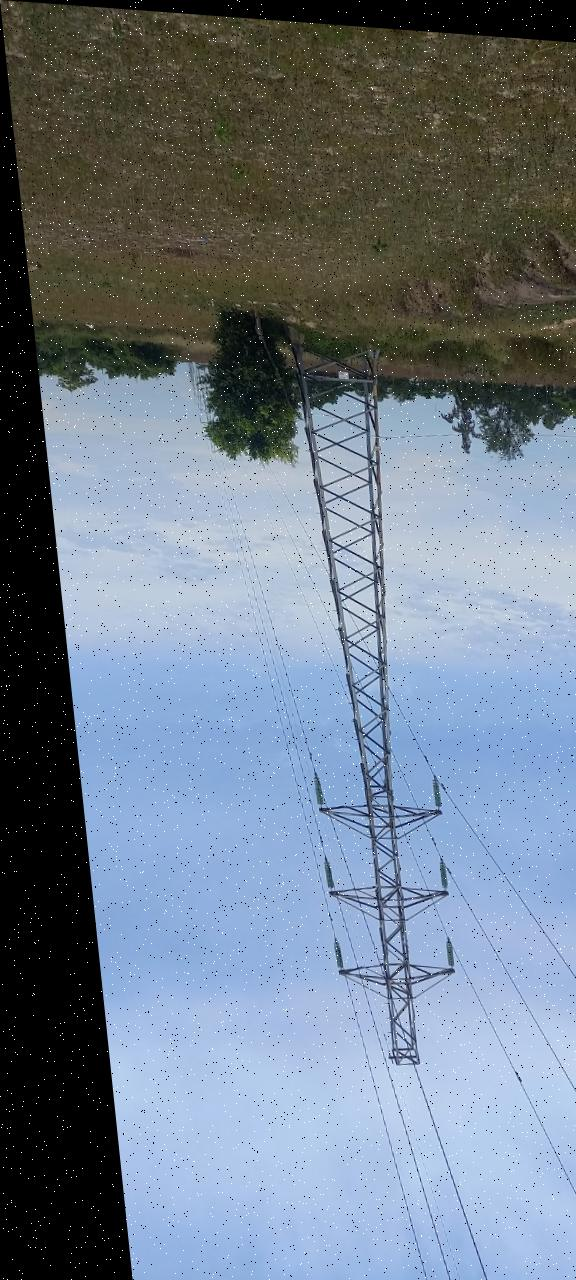tower: (256, 344, 476, 1083)
